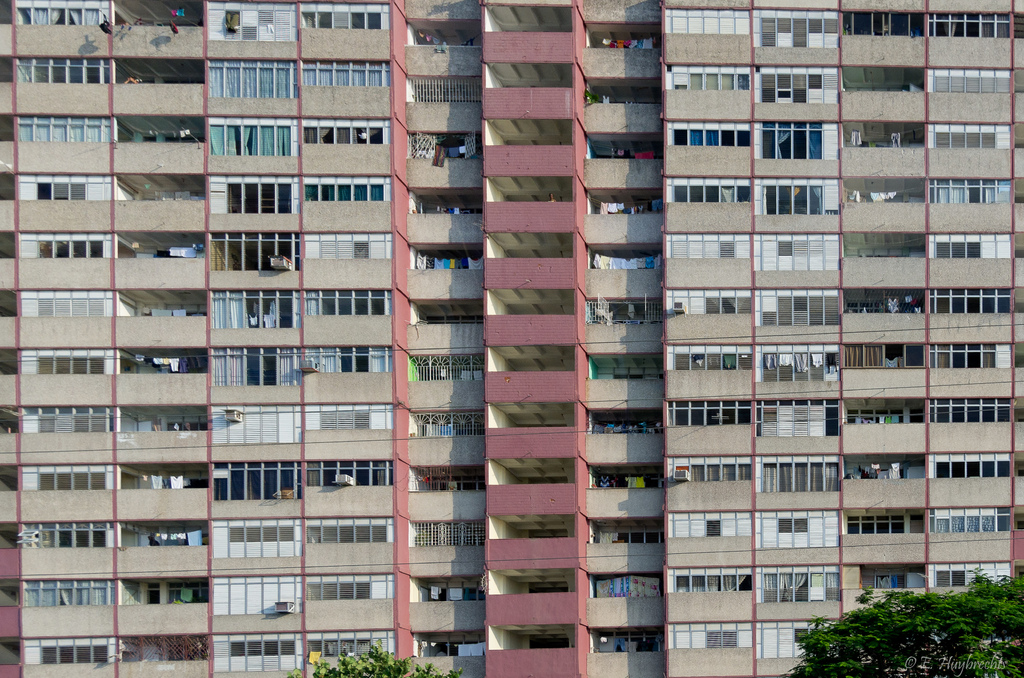Tree: (789, 564, 1023, 677), (309, 638, 457, 677)
